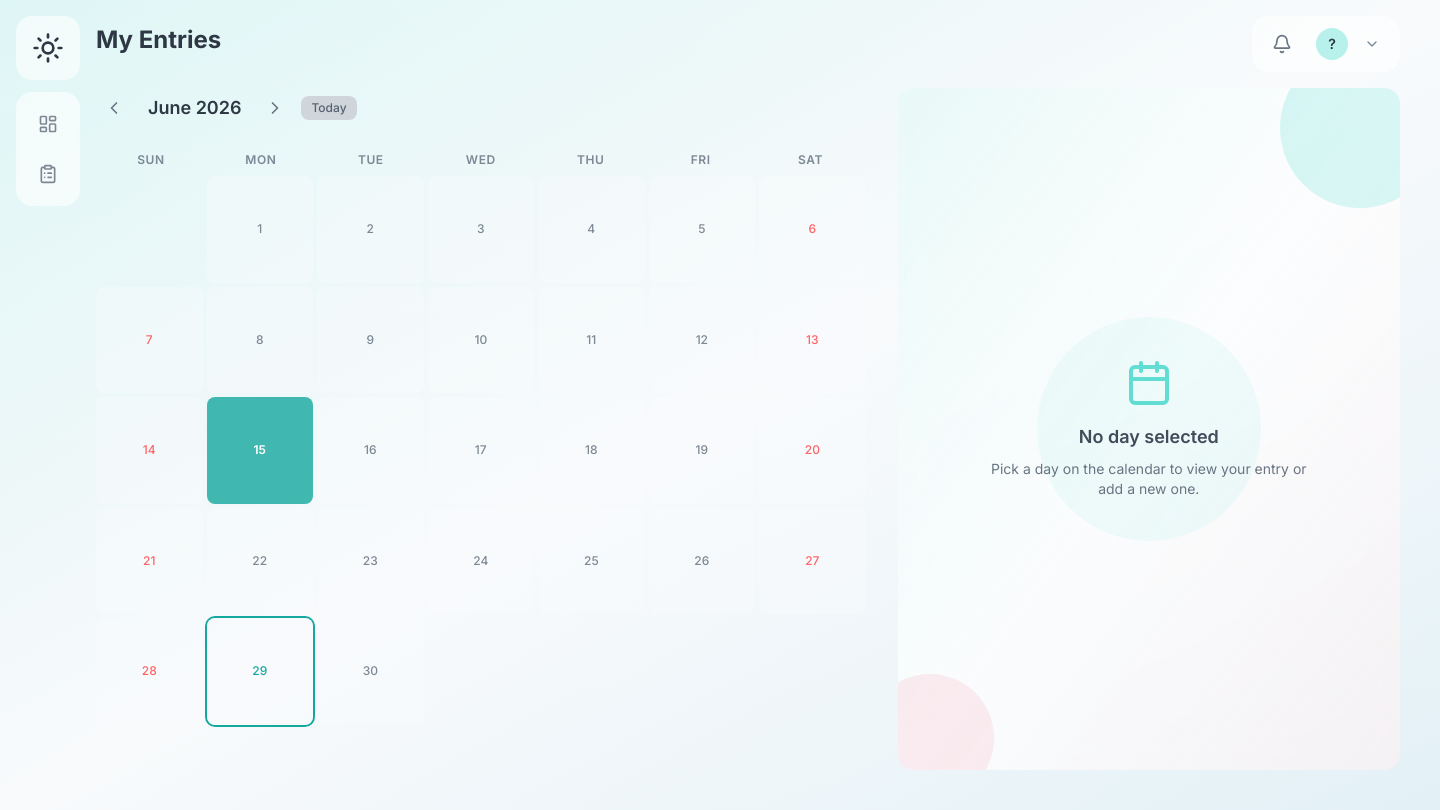
it: EntriesPage — delete confirmation flow › shows the delete dialog when the delete icon is clicked
Click the button "15": (260, 450) [206,397,313,504]
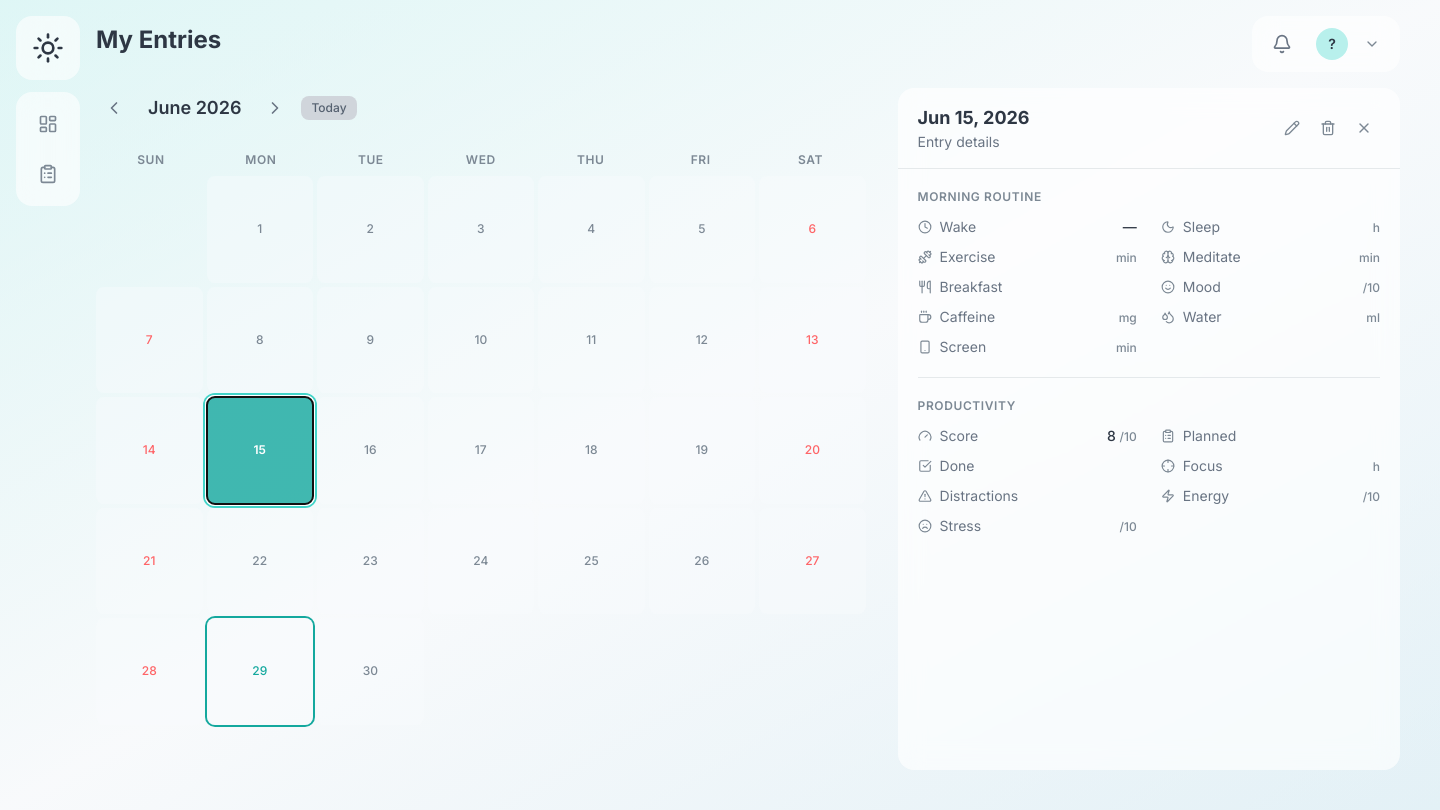
Click the button named "delete entry": (1328, 128) [1312,112,1344,144]
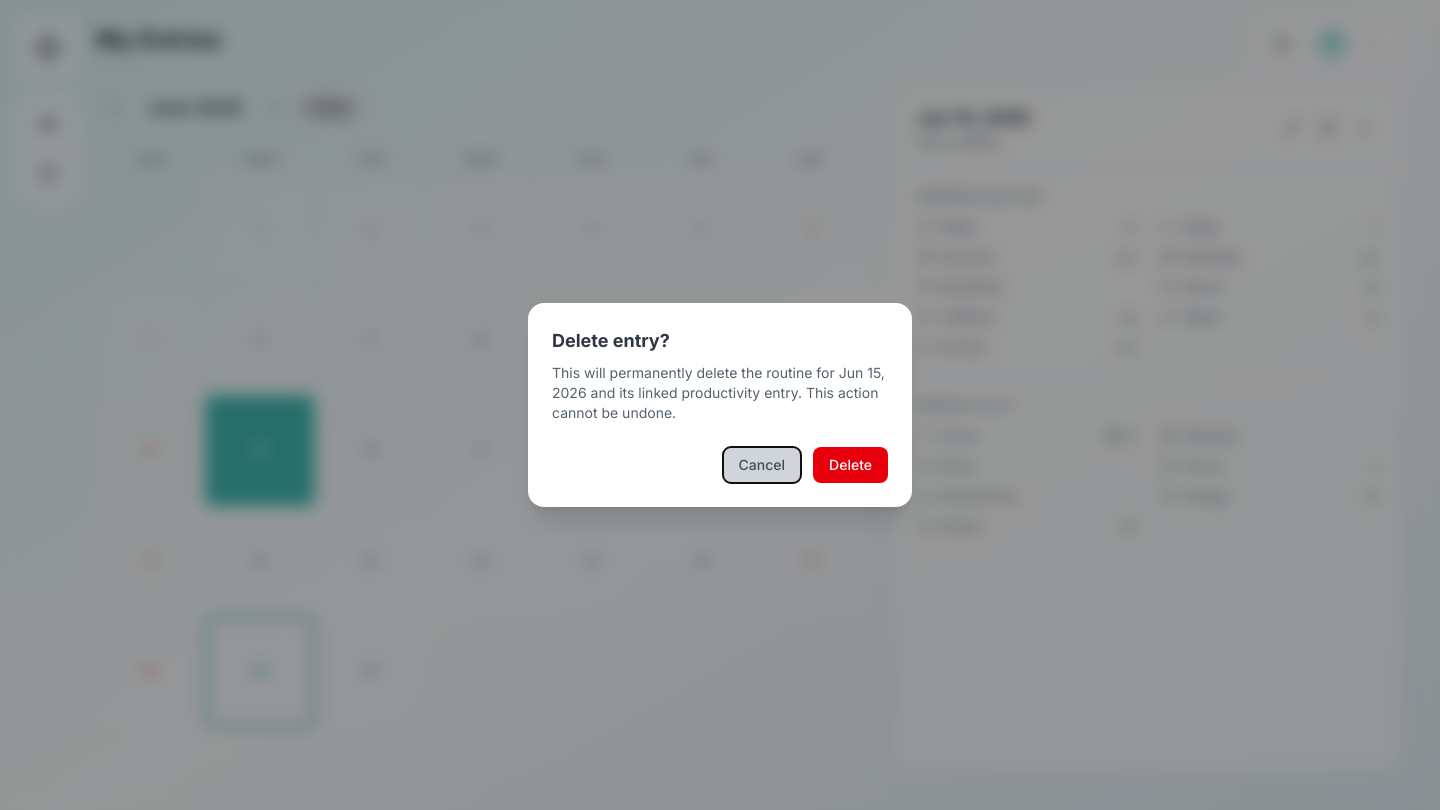
Now the dialog is shown
Now the heading "Delete entry?" is shown, box [552,330,670,351]
